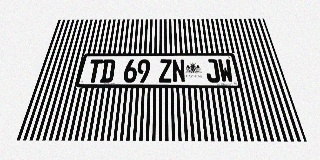6: (123, 59, 138, 83)
9: (136, 59, 150, 83)
D: (100, 59, 116, 83)
J: (204, 59, 221, 83)
N: (172, 59, 186, 83)
T: (86, 59, 103, 83)
W: (217, 59, 234, 83)
Z: (159, 59, 172, 83)
